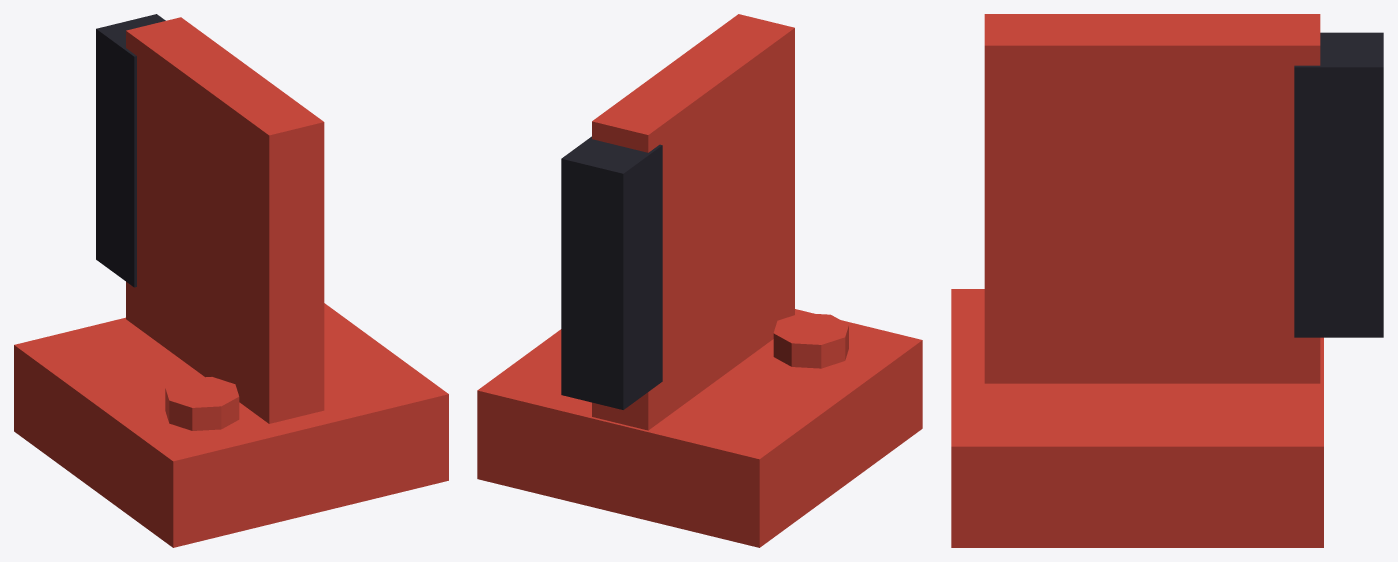
Rendered from Prop_Brk_AssemblyPiece_Tail_LOD1.glb.
3 views of the same model, side by side, from view 1: azimuth 30°, elevation 25°; view 2: azimuth 150°, elevation 25°; view 3: azimuth 270°, elevation 25° (orthographic). The views are drawn at different scales.
Parts seen in each view (by area): view 1: Prop_Brk_AssemblyPiece_Tail; view 2: Prop_Brk_AssemblyPiece_Tail; view 3: Prop_Brk_AssemblyPiece_Tail.
Part boxes in pixels (<box>): Prop_Brk_AssemblyPiece_Tail: <box>14,14,448,547</box>; Prop_Brk_AssemblyPiece_Tail: <box>477,14,922,547</box>; Prop_Brk_AssemblyPiece_Tail: <box>951,14,1383,547</box>.
Bounding box in the file's own units: 0.5 × 0.65 × 0.58.
